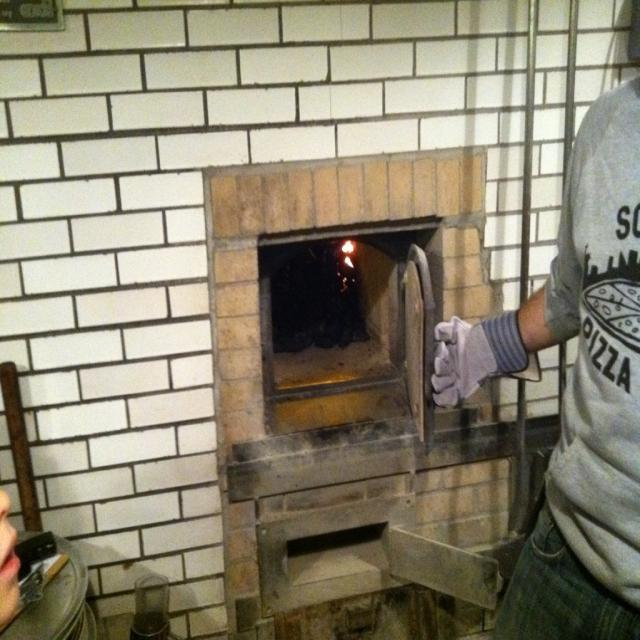Fire: (340, 242, 358, 272)
